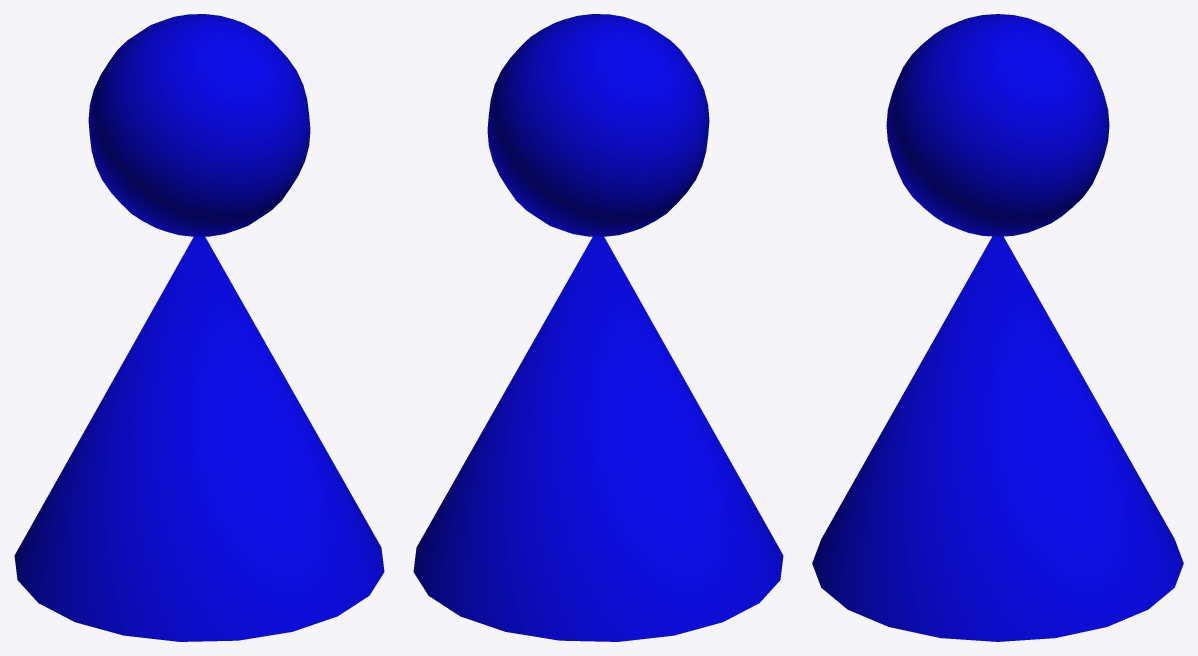
The model's file is player.fbx.
3 renders of one model, left to right at view 1: azimuth 30°, elevation 25°; view 2: azimuth 150°, elevation 25°; view 3: azimuth 270°, elevation 25°, orthographic.
Parts seen in each view (by area): view 1: pCone1, pSphere1; view 2: pCone1, pSphere1; view 3: pCone1, pSphere1.
Boxes of the visible parts, x1,y1,x2,y2 form: pCone1: (14,236,384,641); pSphere1: (88,14,310,236); pCone1: (413,236,783,641); pSphere1: (487,14,709,236); pCone1: (812,236,1183,641); pSphere1: (886,14,1109,236).
Size of the model in its own units: 2 by 3.2 by 2.
